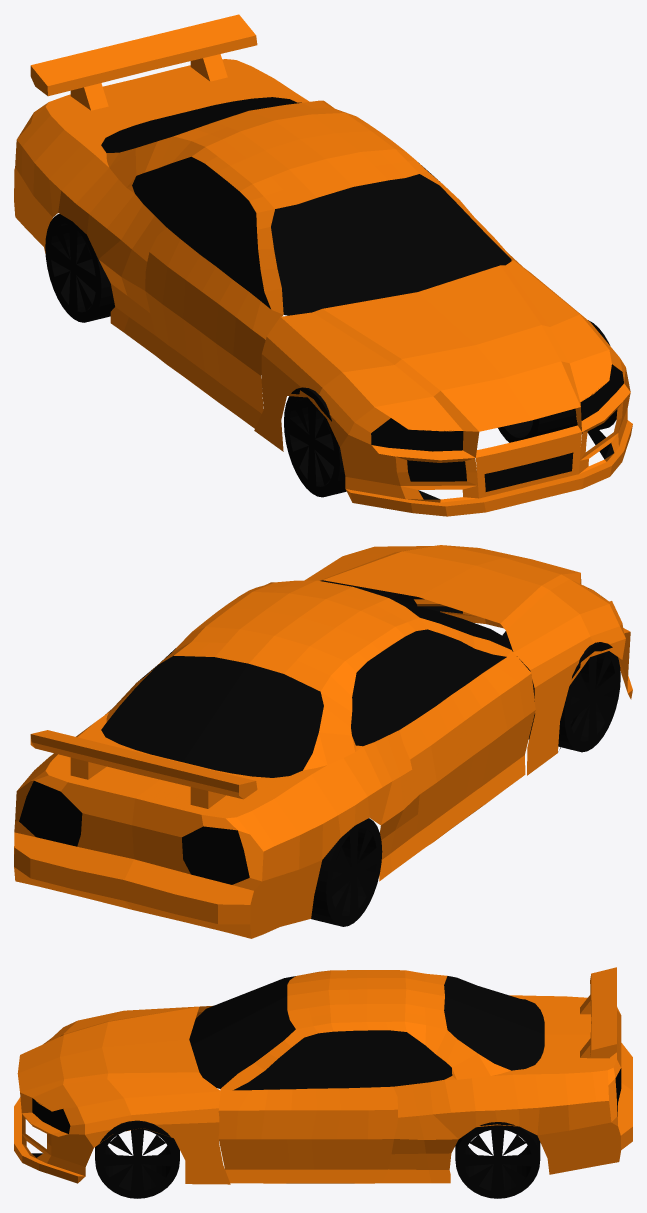
File: sample1.glb
3 views of the same model, one above another, from view 1: azimuth 30°, elevation 25°; view 2: azimuth 150°, elevation 25°; view 3: azimuth 270°, elevation 25° (orthographic). The views are drawn at different scales.
Visible parts, largest first — view 1: Plane, Plane.001, Plane.002, Cylinder.003, Cylinder.002, Cylinder; view 2: Plane, Plane.001, Plane.002, Cylinder.003, Cylinder.002; view 3: Plane, Plane.001, Cylinder.001, Cylinder, Plane.002.
Part boxes in pixels (x1,y1,x2,y2): Plane: (14, 59, 522, 428); Plane.001: (254, 260, 632, 516); Plane.002: (30, 14, 257, 110); Cylinder.003: (45, 214, 114, 322); Cylinder.002: (284, 387, 346, 497); Cylinder: (498, 320, 617, 442); Plane: (14, 580, 535, 938); Plane.001: (304, 545, 632, 775); Plane.002: (30, 730, 257, 808); Cylinder.003: (311, 818, 382, 926); Cylinder.002: (502, 631, 620, 752); Plane: (189, 970, 632, 1183); Plane.001: (14, 1005, 230, 1184); Cylinder.001: (455, 1122, 540, 1198); Cylinder: (95, 1120, 179, 1198); Plane.002: (580, 967, 616, 1058).
Bounding box in the file's own units: 1.68 × 1.18 × 4.21.
